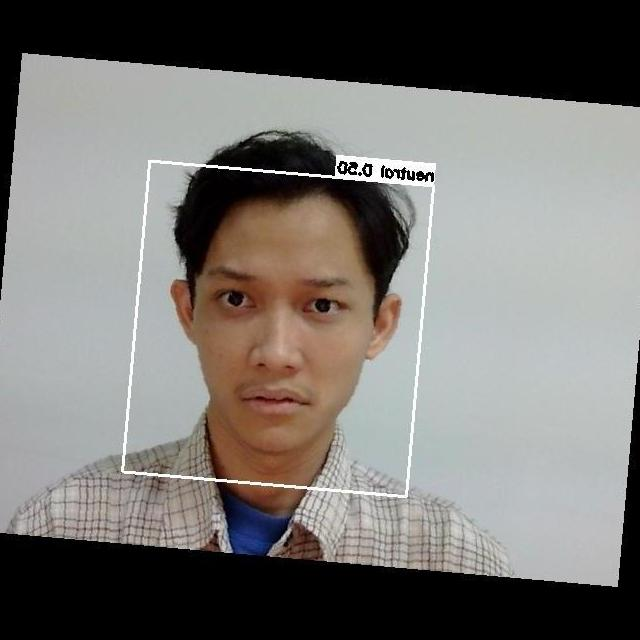Fear: (172, 241, 370, 456)
